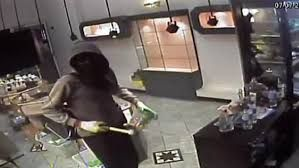gun: (86, 117, 138, 150)
